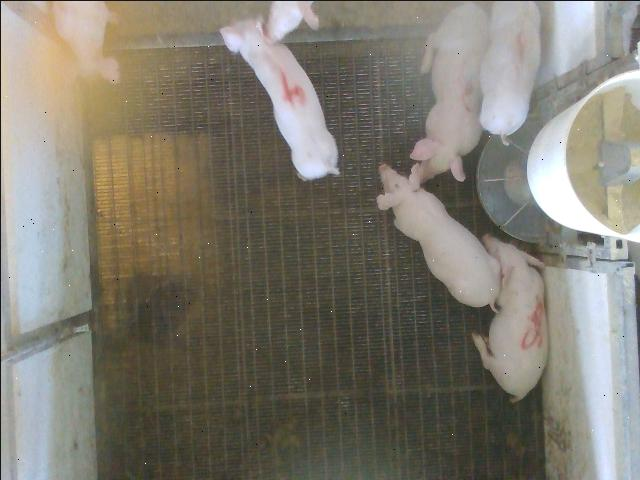pig-1: (479, 1, 540, 142)
pig-3: (411, 2, 488, 181)
pig-4: (220, 19, 337, 179)
pig-5: (471, 234, 546, 400)
